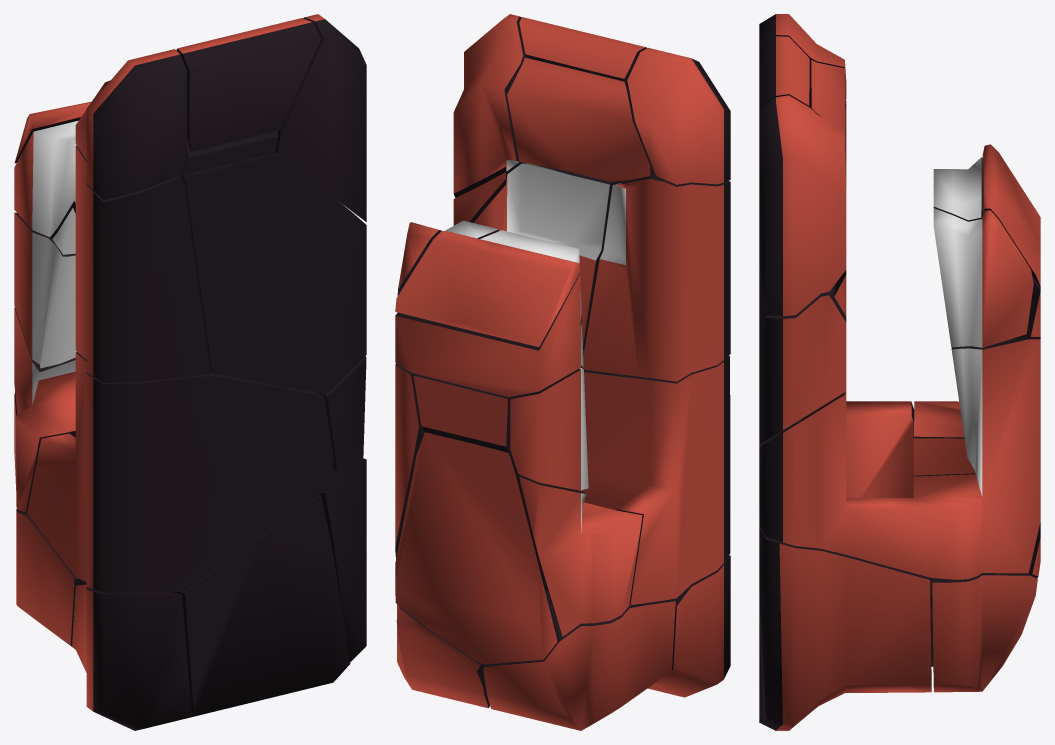
Rendered from Staple_Fractured.fbx.
3 renders of one model, left to right at view 1: azimuth 30°, elevation 25°; view 2: azimuth 150°, elevation 25°; view 3: azimuth 270°, elevation 25°, orthographic. The views are drawn at different scales.
Visible parts, largest first — view 1: Cube_cell, Cube_cell.015, Cube_cell.017, Cube_cell.008, Cube_cell.014, Cube_cell.019, Cube_cell.007, Cube_cell.012, Cube_cell.011, Cube_cell.009, Cube_cell.018, Cube_cell.002 (+5 smaller); view 2: Cube_cell, Cube_cell.001, Cube_cell.008, Cube_cell.004, Cube_cell.003, Cube_cell.005, Cube_cell.002, Cube_cell.009, Cube_cell.007, Cube_cell.015, Cube_cell.012, Cube_cell.011 (+7 smaller); view 3: Cube_cell.006, Cube_cell.018, Cube_cell.012, Cube_cell.016, Cube_cell.015, Cube_cell.010, Cube_cell, Cube_cell.003, Cube_cell.002, Cube_cell.019, Cube_cell.013, Cube_cell.005 (+3 smaller).
Boxes of the visible parts, x1,y1,x2,y2 form: Cube_cell: (27,352,333,592); Cube_cell.015: (179,152,366,393); Cube_cell.017: (171,495,350,716); Cube_cell.008: (75,145,210,382); Cube_cell.014: (72,584,191,730); Cube_cell.019: (176,18,320,152); Cube_cell.007: (75,49,186,200); Cube_cell.012: (275,14,366,221); Cube_cell.011: (14,212,76,368); Cube_cell.009: (14,307,75,512); Cube_cell.018: (318,458,366,662); Cube_cell.002: (14,120,78,237); Cube_cell: (581,356,730,605); Cube_cell.001: (395,432,557,664); Cube_cell.008: (581,170,730,381); Cube_cell.004: (483,590,675,730); Cube_cell.003: (395,230,580,347); Cube_cell.005: (507,57,653,181); Cube_cell.002: (395,230,581,396); Cube_cell.009: (518,474,642,636); Cube_cell.007: (627,47,730,184); Cube_cell.015: (469,162,618,367); Cube_cell.012: (453,14,528,197); Cube_cell.011: (510,368,588,490); Cube_cell.006: (759,338,1040,579); Cube_cell.018: (759,528,931,728); Cube_cell.012: (759,95,846,316); Cube_cell.016: (933,208,1033,347); Cube_cell.015: (759,266,846,443); Cube_cell.010: (932,573,1037,692); Cube_cell: (759,316,914,529); Cube_cell.003: (982,144,1040,285); Cube_cell.002: (933,157,1040,336); Cube_cell.019: (759,36,809,106); Cube_cell.013: (913,337,1040,476); Cube_cell.005: (809,60,844,129).
Size of the model in its own units: 22.5 by 53.84 by 21.83.
